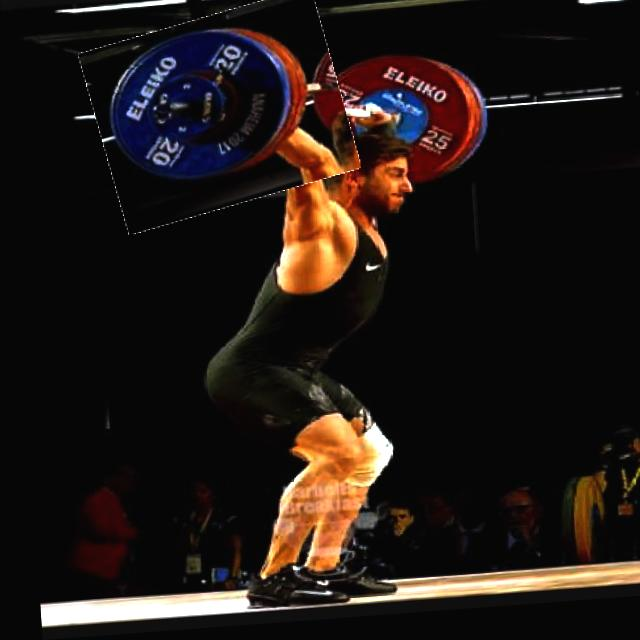barbell: (85, 3, 354, 228)
